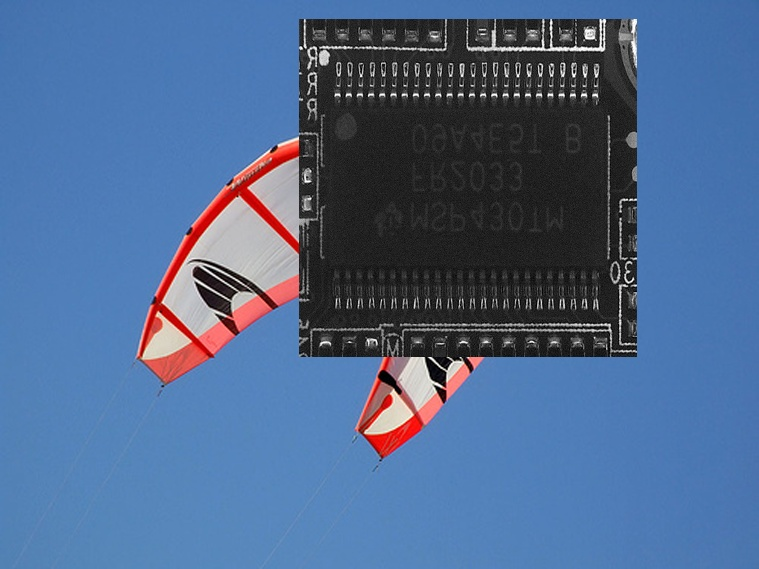PIN: (318, 251, 612, 316), (317, 55, 611, 119)
kite: (141, 130, 507, 465)
